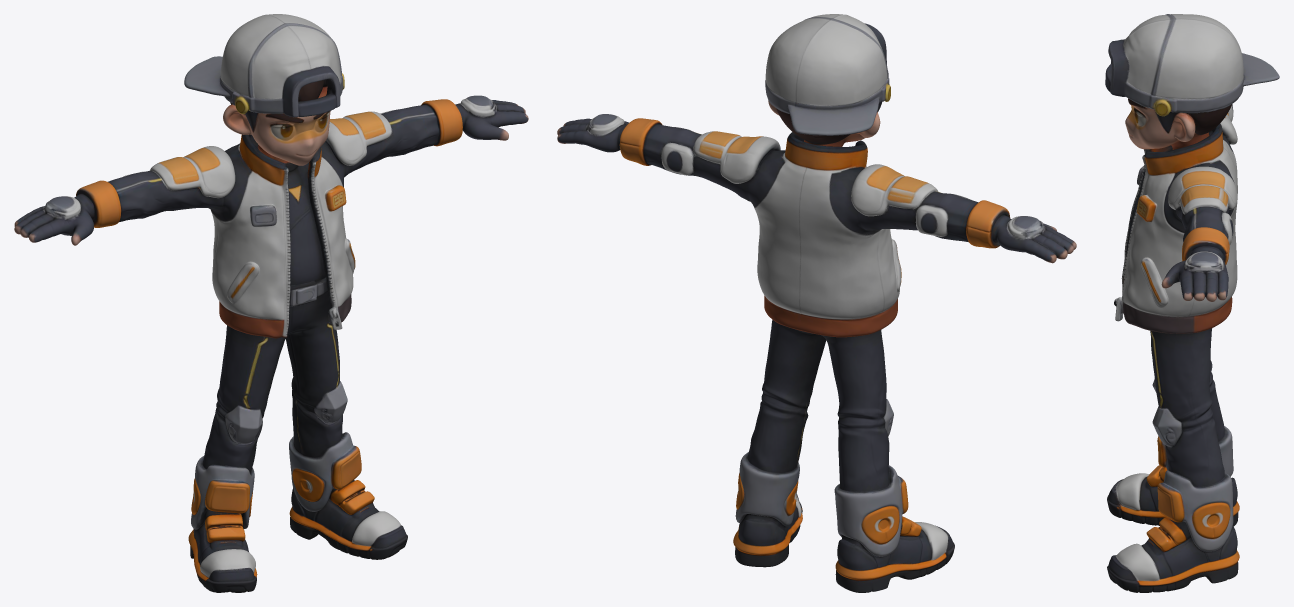
Rendered from tripo_convert_bc0882e2-388b-4726-8fe0-a430f76dd7db.fbx.
3 renders of one model, left to right at view 1: azimuth 30°, elevation 25°; view 2: azimuth 150°, elevation 25°; view 3: azimuth 270°, elevation 25°, orthographic.
Visible parts, largest first — view 1: tripo_node_bc0882e2; view 2: tripo_node_bc0882e2; view 3: tripo_node_bc0882e2.
Part boxes in pixels (x1=…): tripo_node_bc0882e2: x1=14, y1=14, x2=528, y2=592; tripo_node_bc0882e2: x1=557, y1=14, x2=1076, y2=592; tripo_node_bc0882e2: x1=1105, y1=14, x2=1279, y2=592.
Size of the model in its own units: 98.97 by 29.83 by 100.
1 material, 1 textured.
